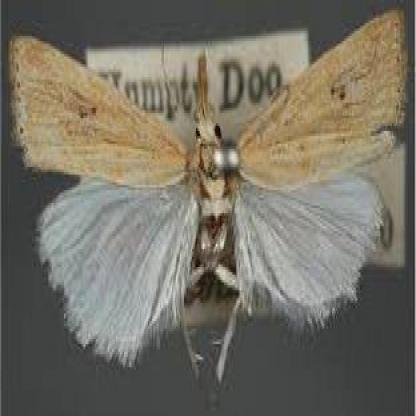stem-borer: (9, 3, 411, 392)
